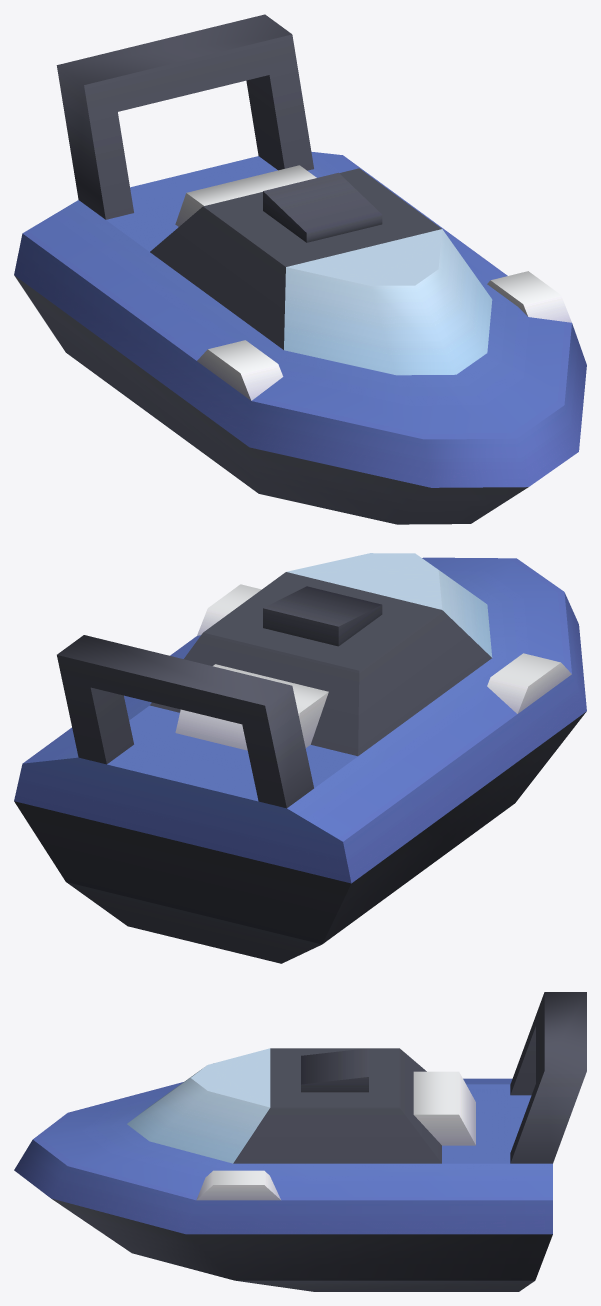
File: boat-speed-a-transformed-transformed.glb
3 views of the same model, one above another, from view 1: azimuth 30°, elevation 25°; view 2: azimuth 150°, elevation 25°; view 3: azimuth 270°, elevation 25° (orthographic). The views are drawn at different scales.
Visible parts, largest first — view 1: boat-speed-a; view 2: boat-speed-a; view 3: boat-speed-a.
Boxes of the visible parts, x1,y1,x2,y2 form: boat-speed-a: (14, 14, 586, 524); boat-speed-a: (14, 553, 586, 963); boat-speed-a: (14, 992, 586, 1291).
Bounding box in the file's own units: 1.79 × 1.5 × 3.37.
1 material, 1 textured.
